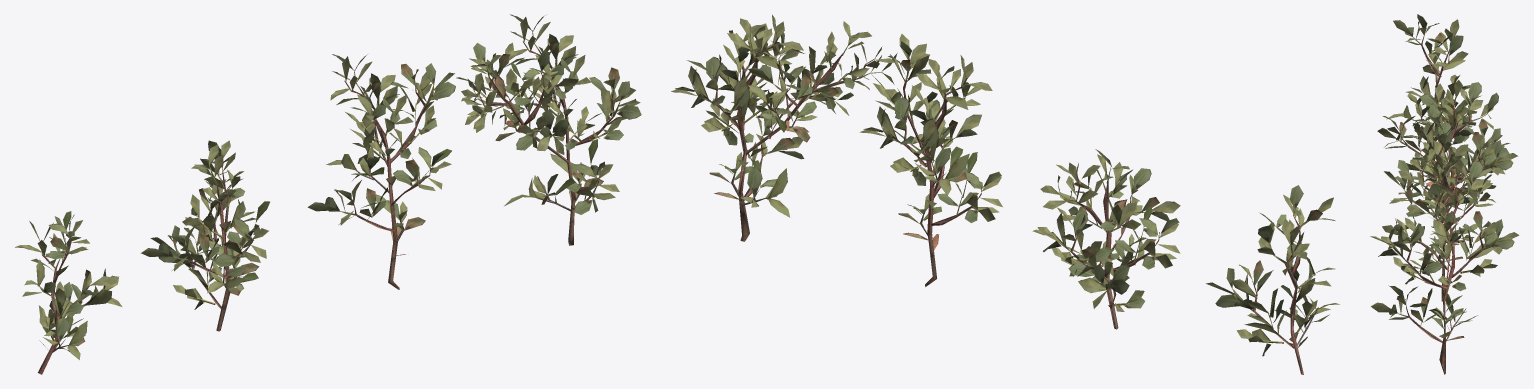
The model's file is shrub_04_lod.glb.
3 views of the same model, side by side, from view 1: azimuth 30°, elevation 25°; view 2: azimuth 150°, elevation 25°; view 3: azimuth 270°, elevation 25° (orthographic). The views are drawn at different scales.
Parts seen in each view (by area): view 1: shrub_04; view 2: shrub_04; view 3: shrub_04.
Part boxes in pixels (<box>): shrub_04: <box>15,14,641,374</box>; shrub_04: <box>671,14,1339,374</box>; shrub_04: <box>1370,14,1519,374</box>.
Size of the model in its own units: 0.5832 by 0.2189 by 0.1457.
1 material, 1 textured.
